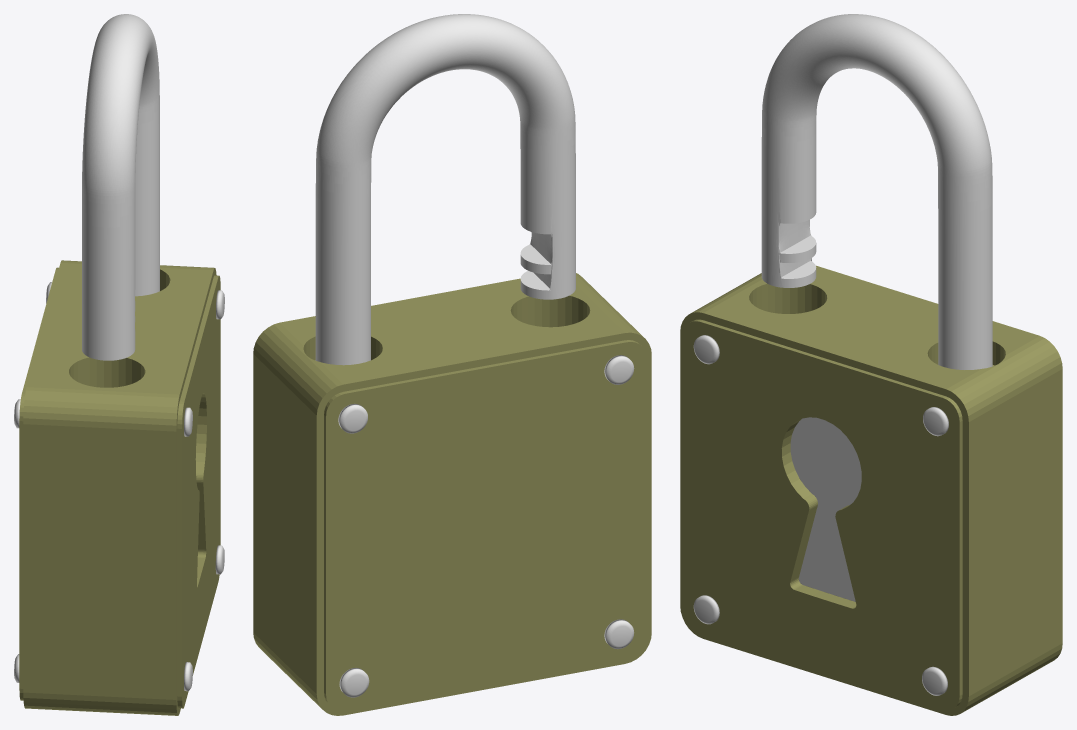
The model's file is lock.glb.
The picture shows the model from 3 angles, left to right: view 1: azimuth 30°, elevation 25°; view 2: azimuth 150°, elevation 25°; view 3: azimuth 270°, elevation 25°; orthographic projection. The views are drawn at different scales.
Parts seen in each view (by area): view 1: Cube, Torus; view 2: Cube, Torus, Cylinder, Cylinder.001, Cylinder.002, Cylinder.003; view 3: Cube, Torus, Cube.001, Cylinder.004, Cylinder.005, Cylinder.006, Cylinder.007.
Boxes of the visible parts, left/top/right/bottom form: Cube: left=19, top=260, right=220, bottom=715; Torus: left=82, top=14, right=159, bottom=360; Cube: left=253, top=273, right=651, bottom=715; Torus: left=315, top=14, right=575, bottom=365; Cylinder: left=338, top=403, right=367, bottom=433; Cylinder.001: left=604, top=355, right=634, bottom=384; Cylinder.002: left=604, top=619, right=634, bottom=649; Cylinder.003: left=339, top=668, right=369, bottom=697; Cube: left=680, top=265, right=1062, bottom=715; Torus: left=761, top=14, right=992, bottom=369; Cube.001: left=790, top=417, right=861, bottom=601; Cylinder.004: left=923, top=407, right=948, bottom=436; Cylinder.005: left=693, top=335, right=719, bottom=364; Cylinder.006: left=693, top=595, right=719, bottom=624; Cylinder.007: left=922, top=666, right=947, bottom=695.
Bounding box in the file's own units: 1.9 × 3.88 × 2.13.
